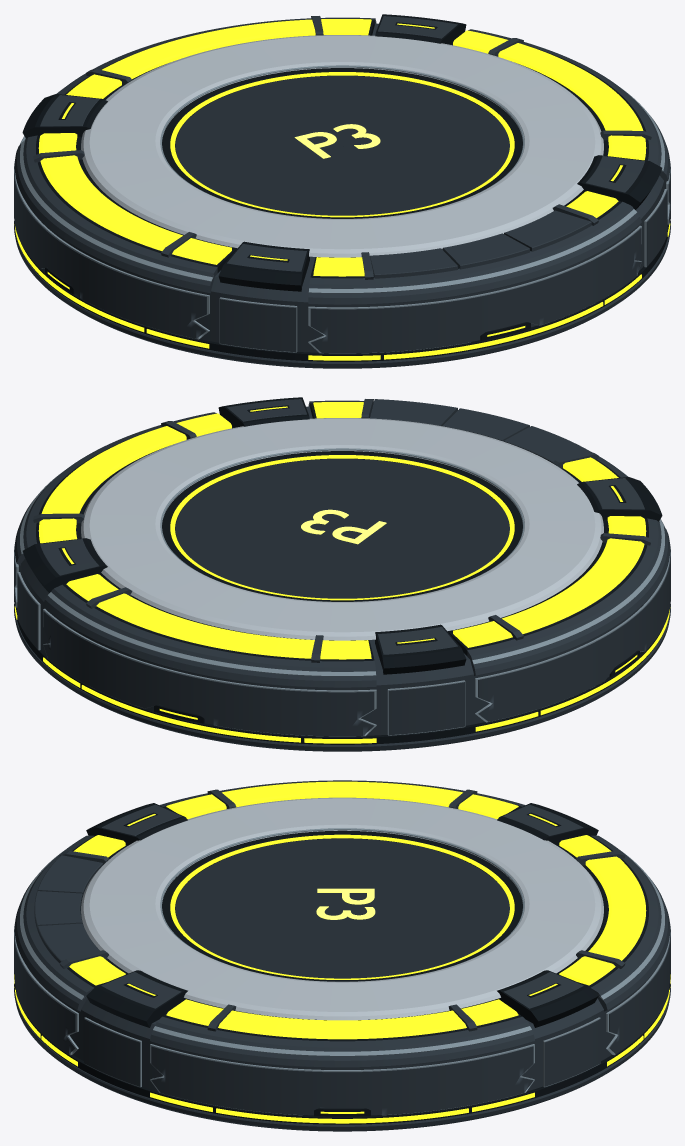
File: Blocker.fbx
3 views of the same model, one above another, from view 1: azimuth 30°, elevation 25°; view 2: azimuth 150°, elevation 25°; view 3: azimuth 270°, elevation 25° (orthographic).
Parts seen in each view (by area): view 1: SM_Puck_Blocker_P3_HighDetail; view 2: SM_Puck_Blocker_P3_HighDetail; view 3: SM_Puck_Blocker_P3_HighDetail.
Boxes of the visible parts, x1=… form: SM_Puck_Blocker_P3_HighDetail: x1=14, y1=14, x2=670, y2=368; SM_Puck_Blocker_P3_HighDetail: x1=14, y1=397, x2=670, y2=751; SM_Puck_Blocker_P3_HighDetail: x1=14, y1=780, x2=670, y2=1131.
Size of the model in its own units: 106 by 106 by 16.5.
